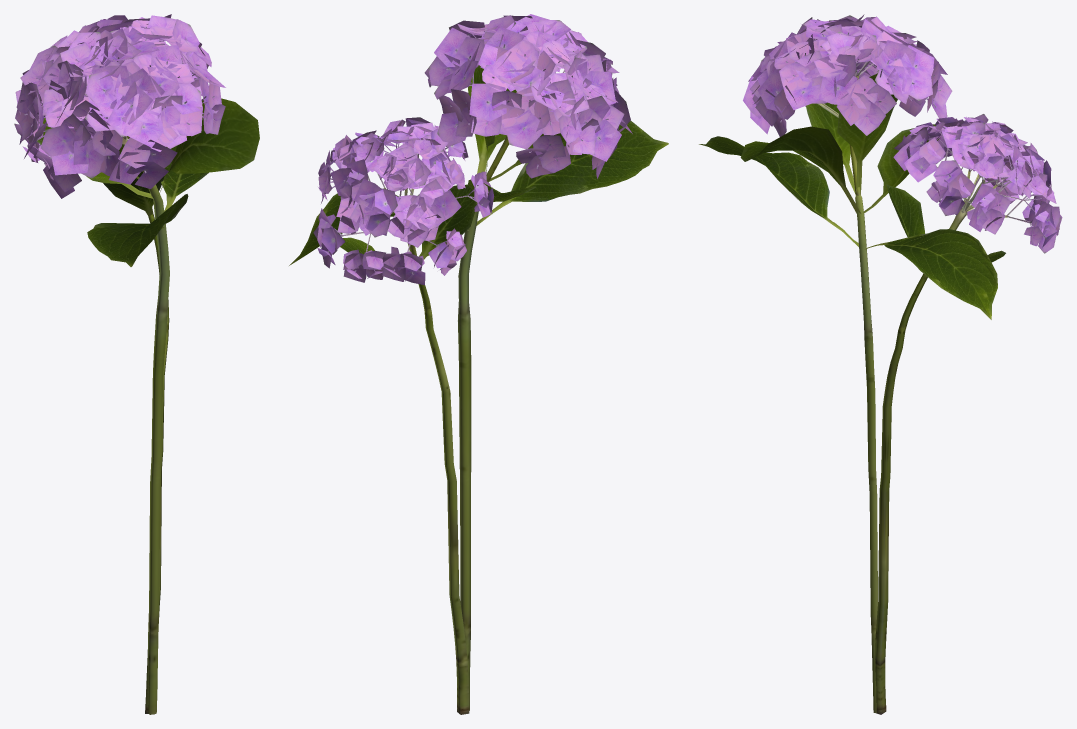
File: Hydrangea_bush_normal_magenta.glb
The picture shows the model from 3 angles, left to right: view 1: azimuth 30°, elevation 25°; view 2: azimuth 150°, elevation 25°; view 3: azimuth 270°, elevation 25°; orthographic projection. The views are drawn at different scales.
Parts seen in each view (by area): view 1: BUSHEKK; view 2: BUSHEKK; view 3: BUSHEKK.
Boxes of the visible parts, left/top/right/bottom form: BUSHEKK: left=14, top=14, right=259, bottom=714; BUSHEKK: left=289, top=14, right=668, bottom=714; BUSHEKK: left=699, top=14, right=1062, bottom=714.
Size of the model in its own units: 1.48 by 3.79 by 1.87.
1 material, 1 textured.
